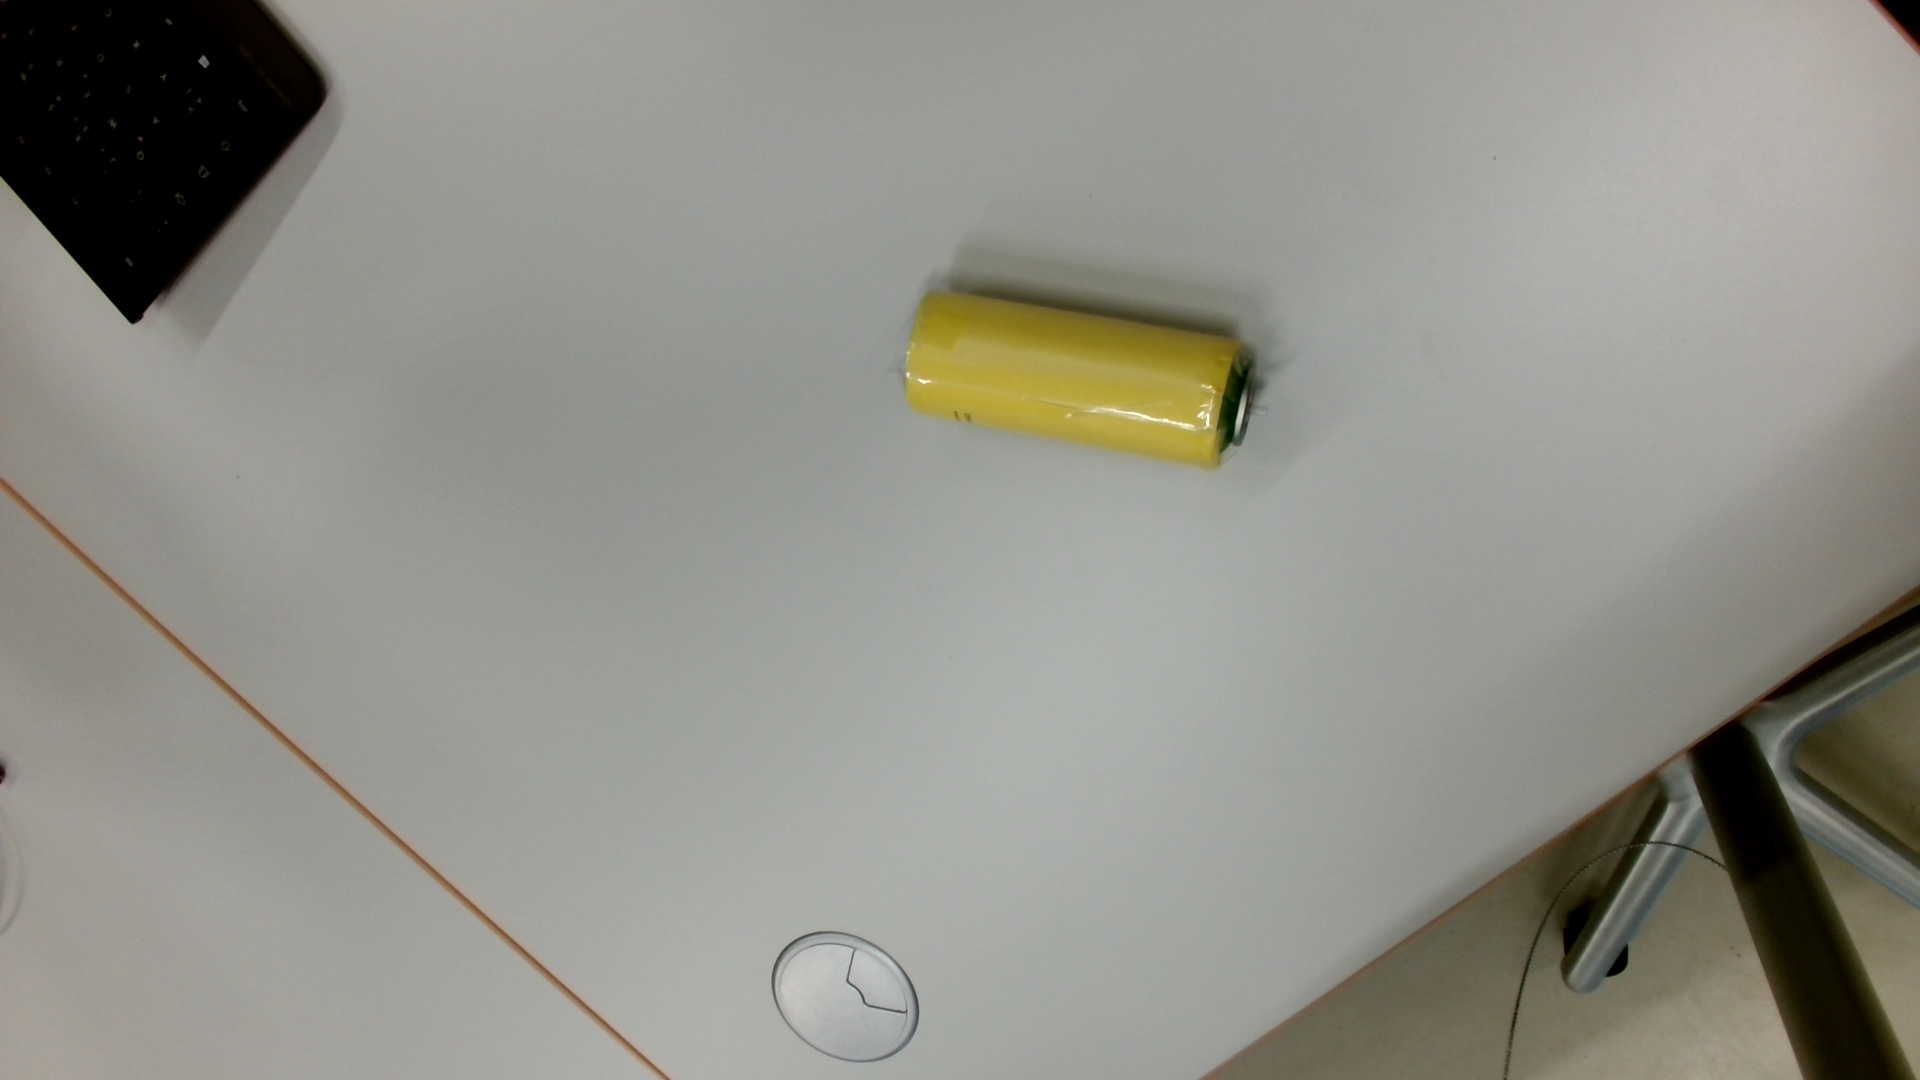Cylinder: (890, 277, 1292, 483)
